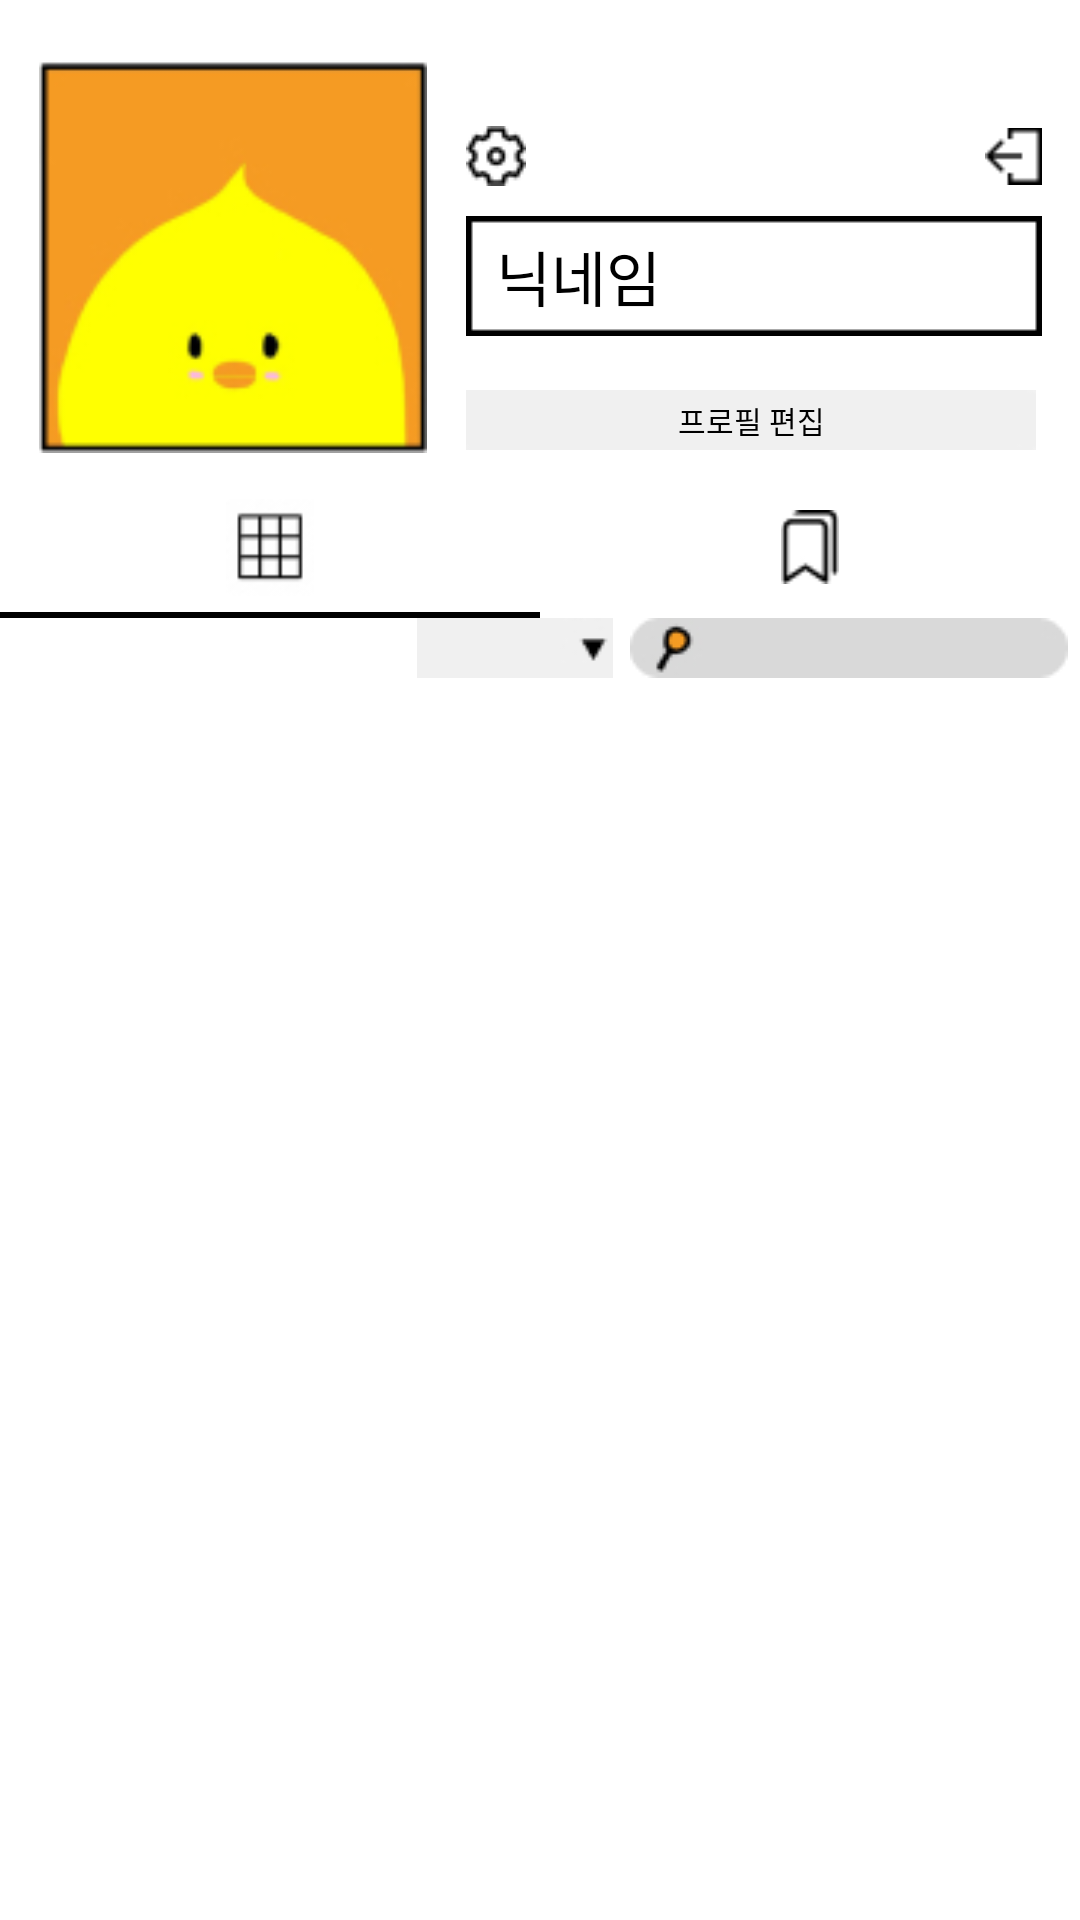

Icons on this 1080 × 1920 Android screen, each with its box as [left=x1, top=y1, right=x2, bottom=y2]:
place gu select: [left=579, top=638, right=608, bottom=661]
setting: [left=466, top=126, right=526, bottom=186]
